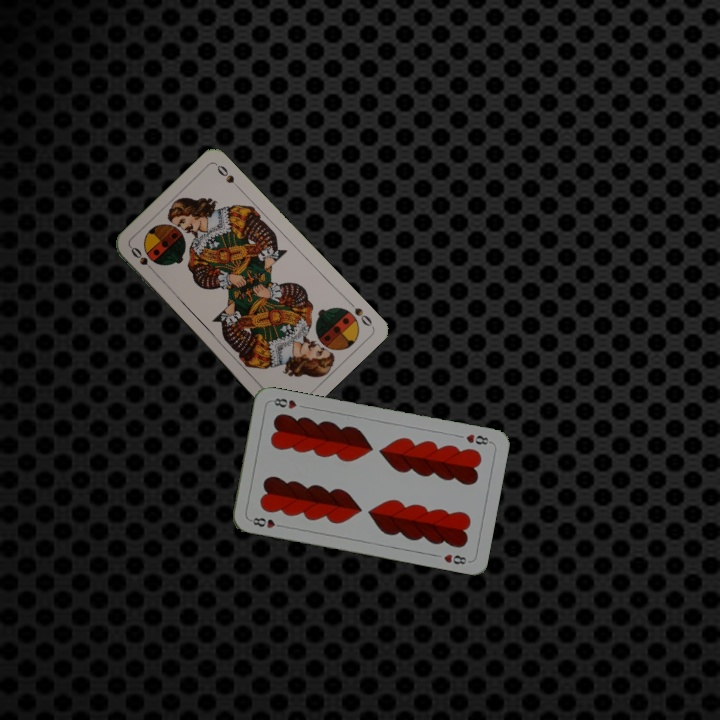H8: (246, 513, 286, 531), (462, 430, 494, 447)
SO: (126, 243, 158, 276), (344, 296, 375, 329)
